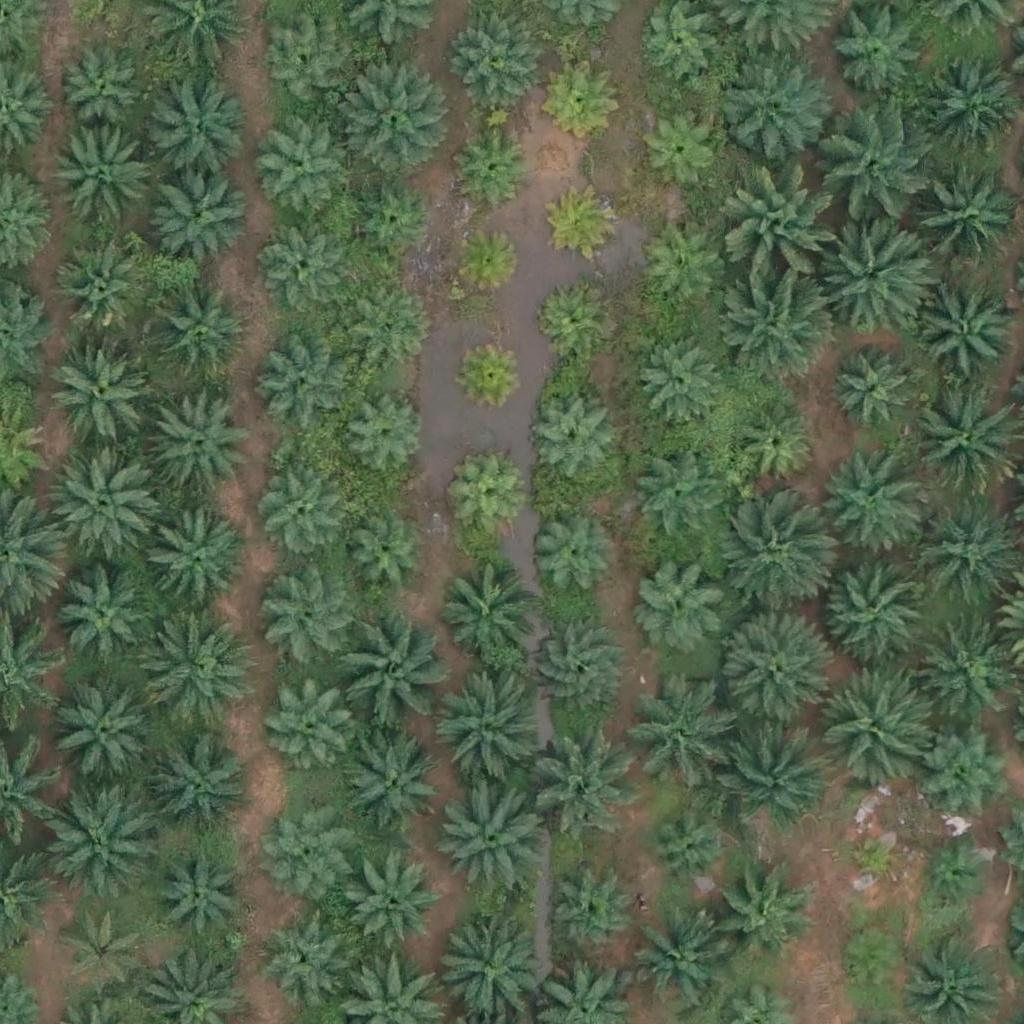Kelapa_Sawit: (429, 779, 542, 893), (906, 165, 1019, 279), (907, 384, 1020, 497), (818, 551, 931, 664), (715, 612, 828, 725), (426, 910, 539, 1023), (138, 509, 251, 622), (139, 618, 252, 731), (49, 675, 162, 788), (823, 111, 936, 224), (722, 269, 835, 382), (337, 60, 450, 173), (715, 714, 827, 828), (432, 675, 544, 789), (728, 173, 840, 287), (811, 452, 923, 565), (816, 669, 928, 782), (713, 503, 825, 616), (526, 720, 638, 833), (330, 614, 442, 727), (50, 453, 162, 566), (47, 791, 159, 904), (818, 216, 930, 329), (715, 47, 827, 160), (915, 617, 1015, 718), (917, 718, 1017, 819), (709, 866, 809, 967), (623, 915, 723, 1016), (623, 687, 723, 788), (436, 563, 536, 664), (339, 731, 439, 832), (260, 568, 360, 669), (149, 388, 249, 489), (56, 568, 156, 669), (918, 281, 1018, 382), (145, 80, 245, 181), (150, 163, 250, 264), (50, 336, 150, 437), (149, 280, 249, 381), (256, 332, 356, 433), (52, 128, 152, 229), (630, 553, 730, 653), (528, 621, 628, 721), (919, 59, 1019, 159), (150, 736, 249, 837), (730, 402, 818, 490), (644, 804, 732, 892), (525, 395, 613, 483), (351, 864, 439, 952), (251, 467, 339, 555), (347, 175, 435, 263), (347, 293, 435, 381), (830, 347, 918, 435), (633, 103, 721, 191), (638, 226, 726, 314), (257, 131, 345, 219), (258, 223, 346, 311), (60, 39, 148, 127), (630, 452, 717, 541), (62, 907, 149, 996), (527, 511, 614, 599), (549, 873, 636, 961), (343, 391, 430, 479), (340, 515, 427, 603), (254, 910, 341, 998), (263, 798, 350, 886), (266, 683, 353, 771), (157, 849, 244, 937), (636, 1, 723, 89), (637, 335, 724, 423), (451, 11, 538, 99), (263, 20, 350, 108), (55, 245, 142, 333), (532, 281, 607, 357), (916, 838, 991, 914), (835, 925, 910, 1001), (449, 461, 524, 537), (454, 334, 529, 410), (547, 185, 622, 261), (457, 127, 532, 202), (449, 224, 524, 299), (547, 63, 622, 138), (842, 826, 904, 889)
